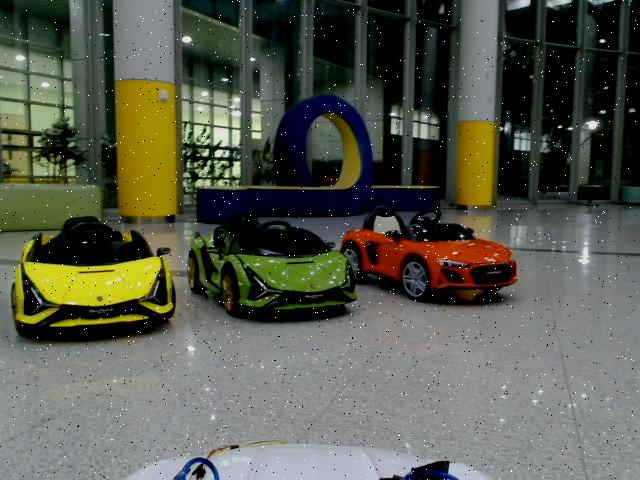car: (11, 215, 177, 338), (187, 210, 358, 316), (338, 205, 519, 300)
